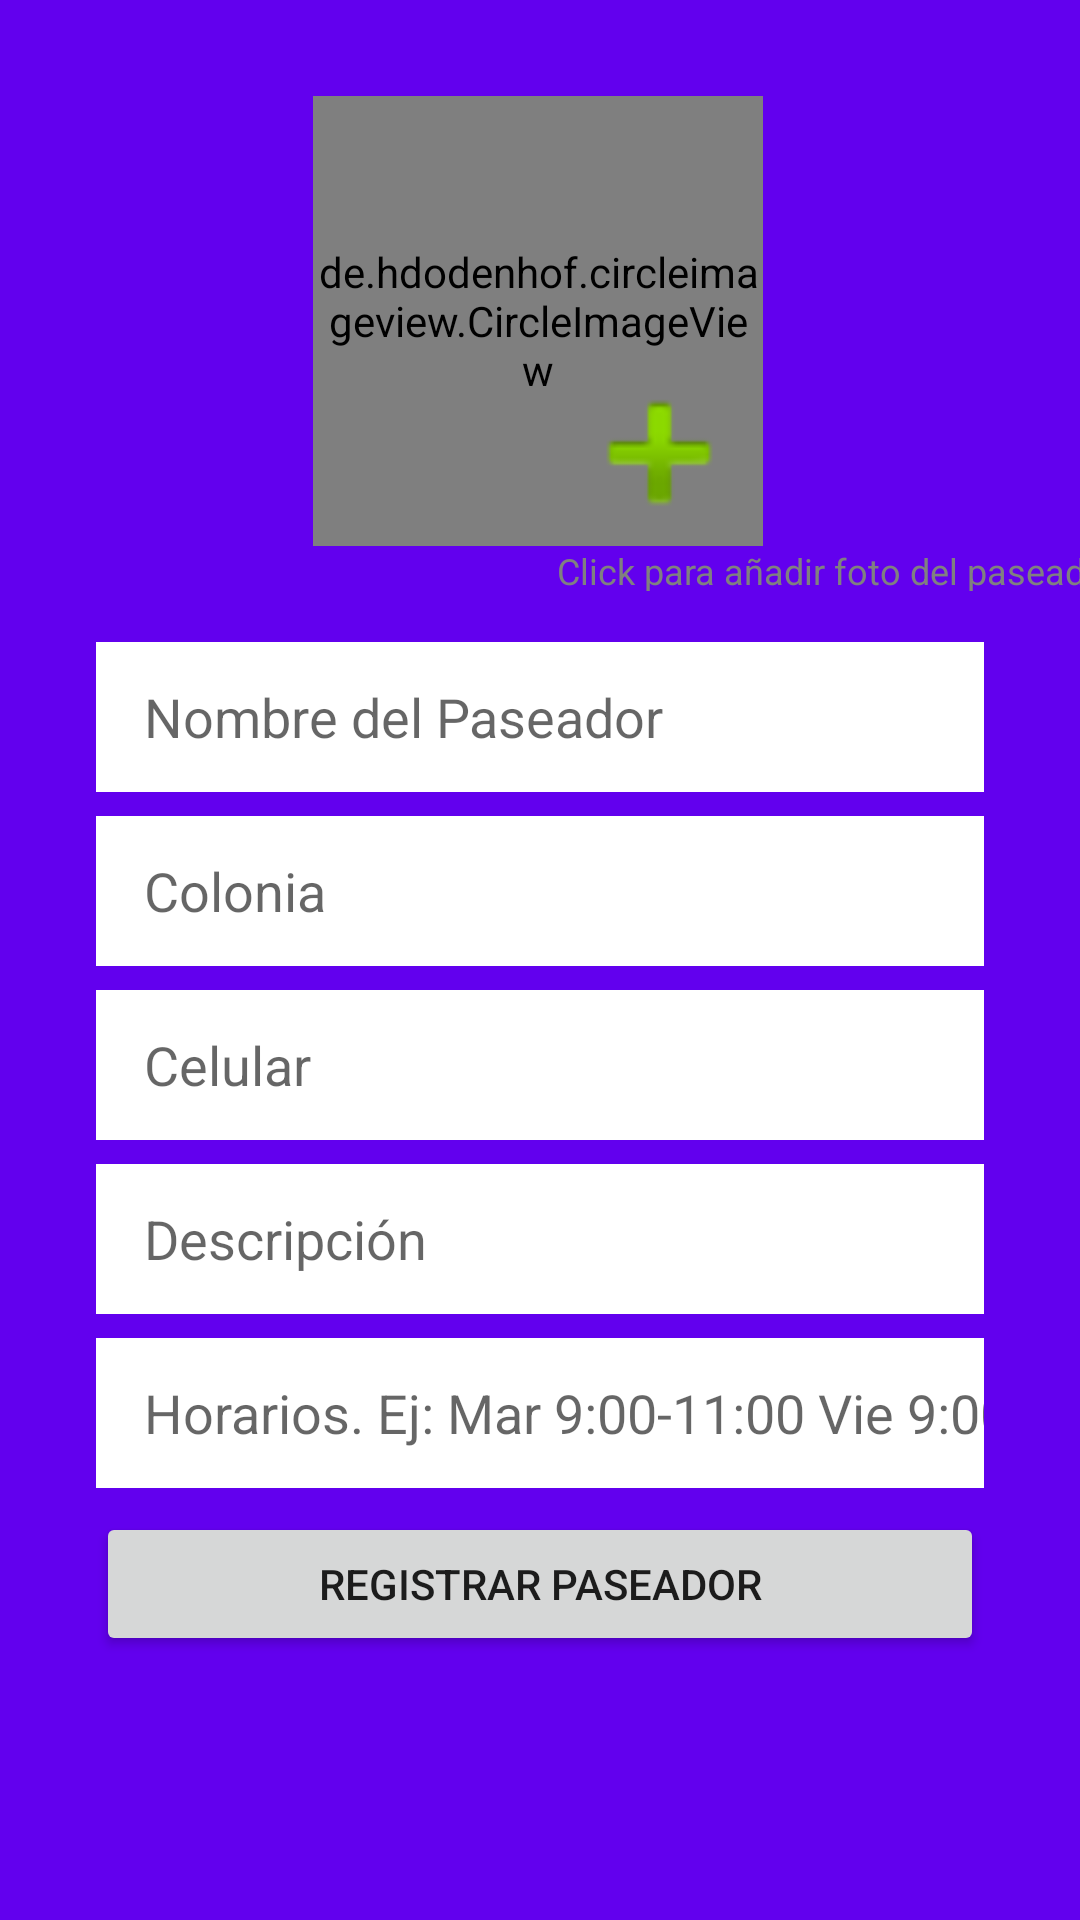

Locate icon controls on the screen. Image size 1080x1920, boxes as [left=x1, top=y1, right=x2, bottom=y2].
add: [left=607, top=401, right=712, bottom=504]
